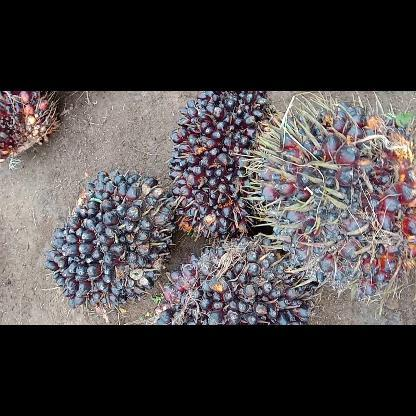TBS mentah: (249, 99, 415, 300), (42, 168, 176, 312), (166, 91, 278, 241), (154, 234, 322, 324)
